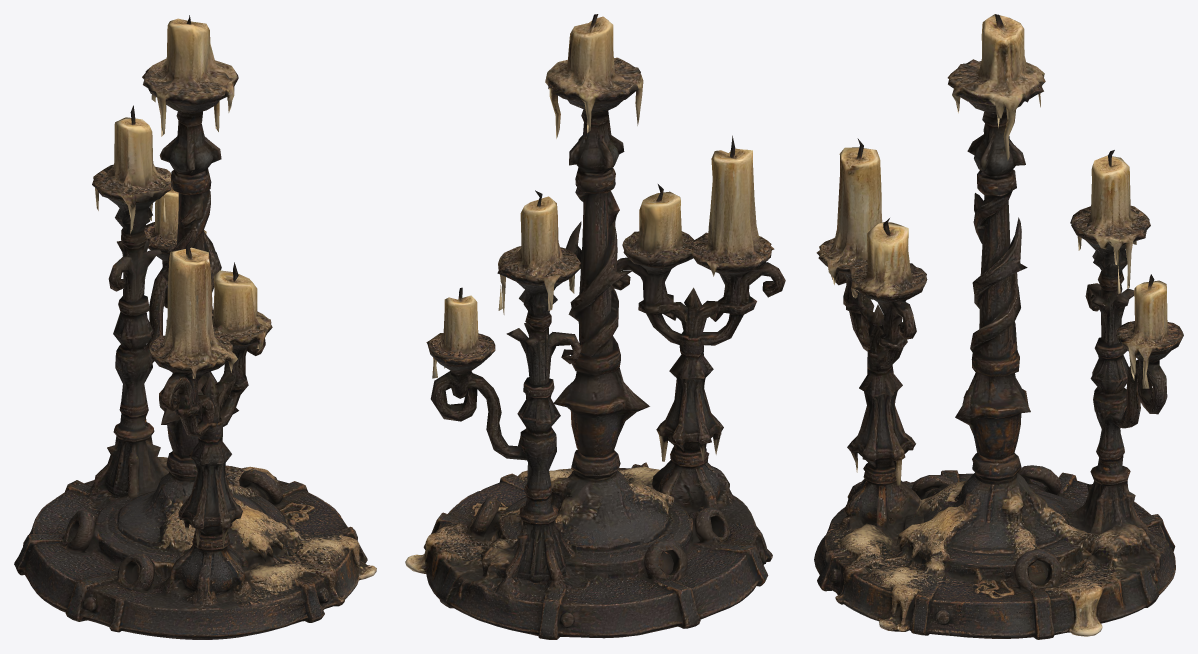
File: candelabra-cluster.glb
3 renders of one model, left to right at view 1: azimuth 30°, elevation 25°; view 2: azimuth 150°, elevation 25°; view 3: azimuth 270°, elevation 25°, orthographic.
Visible parts, largest first — view 1: tripo_node_1c187a68-a517-4438-8415-9de0f3946b34; view 2: tripo_node_1c187a68-a517-4438-8415-9de0f3946b34; view 3: tripo_node_1c187a68-a517-4438-8415-9de0f3946b34.
Boxes of the visible parts, <box> form: tripo_node_1c187a68-a517-4438-8415-9de0f3946b34: <box>14,15,376,639</box>; tripo_node_1c187a68-a517-4438-8415-9de0f3946b34: <box>405,14,785,639</box>; tripo_node_1c187a68-a517-4438-8415-9de0f3946b34: <box>814,14,1183,639</box>.
Size of the model in its own units: 0.5588 by 1 by 0.6047.
Materials: 1 (1 with a texture image).
